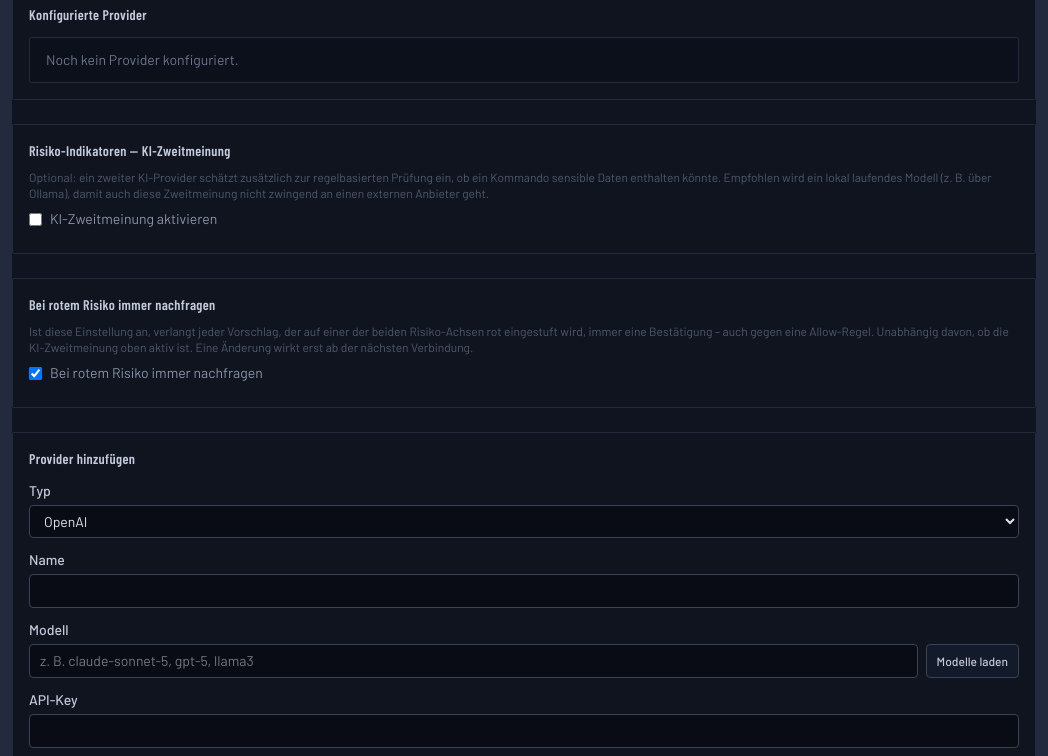
it: AiProviderSettings API-key format hint (Spec 0050, Teil 2) › shows a non-blocking hint for an Anthropic key with the wrong prefix, and the submit button stays enabled
The width and height of the screenshot is (1048, 756).
Select "Anthropic" in the dropdown labelled "Typ": (524, 522) [29,505,1019,538]
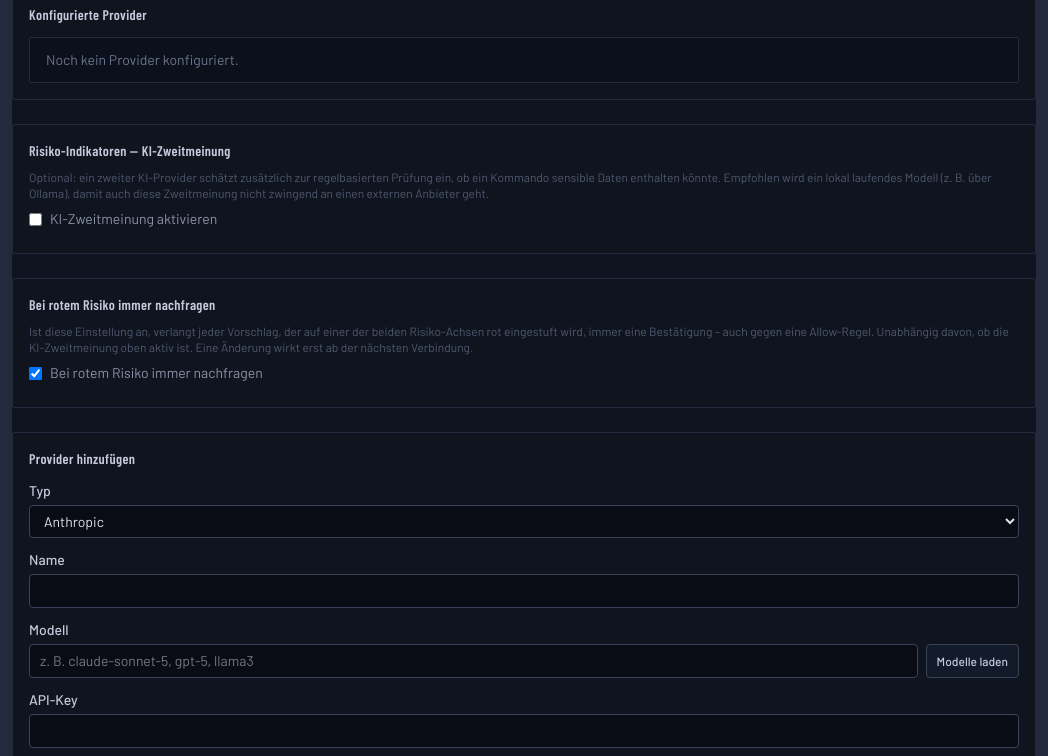
In the password field labelled "API-Key": (524, 731) [29,714,1019,748], type "totally-wrong-format"
(page scrolled)
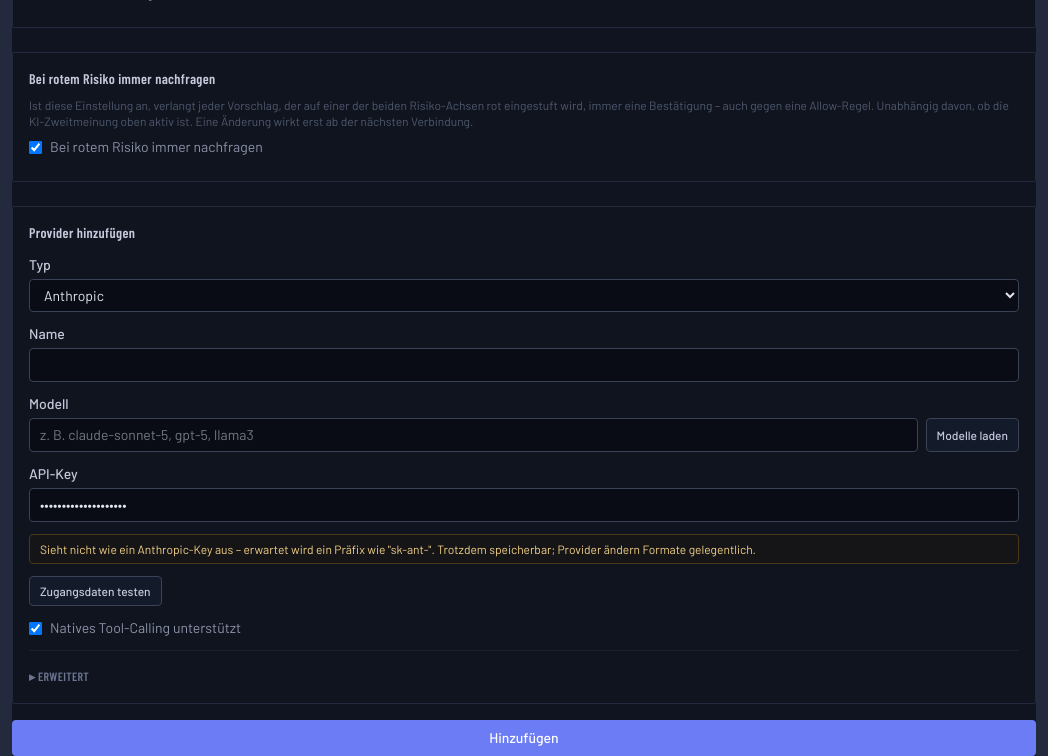
Check: the button "Hinzufügen" is enabled, box [12,720,1036,755]
Check: the text "Sieht nicht wie ein Anthropic-Key aus" is shown, box [40,542,756,556]
